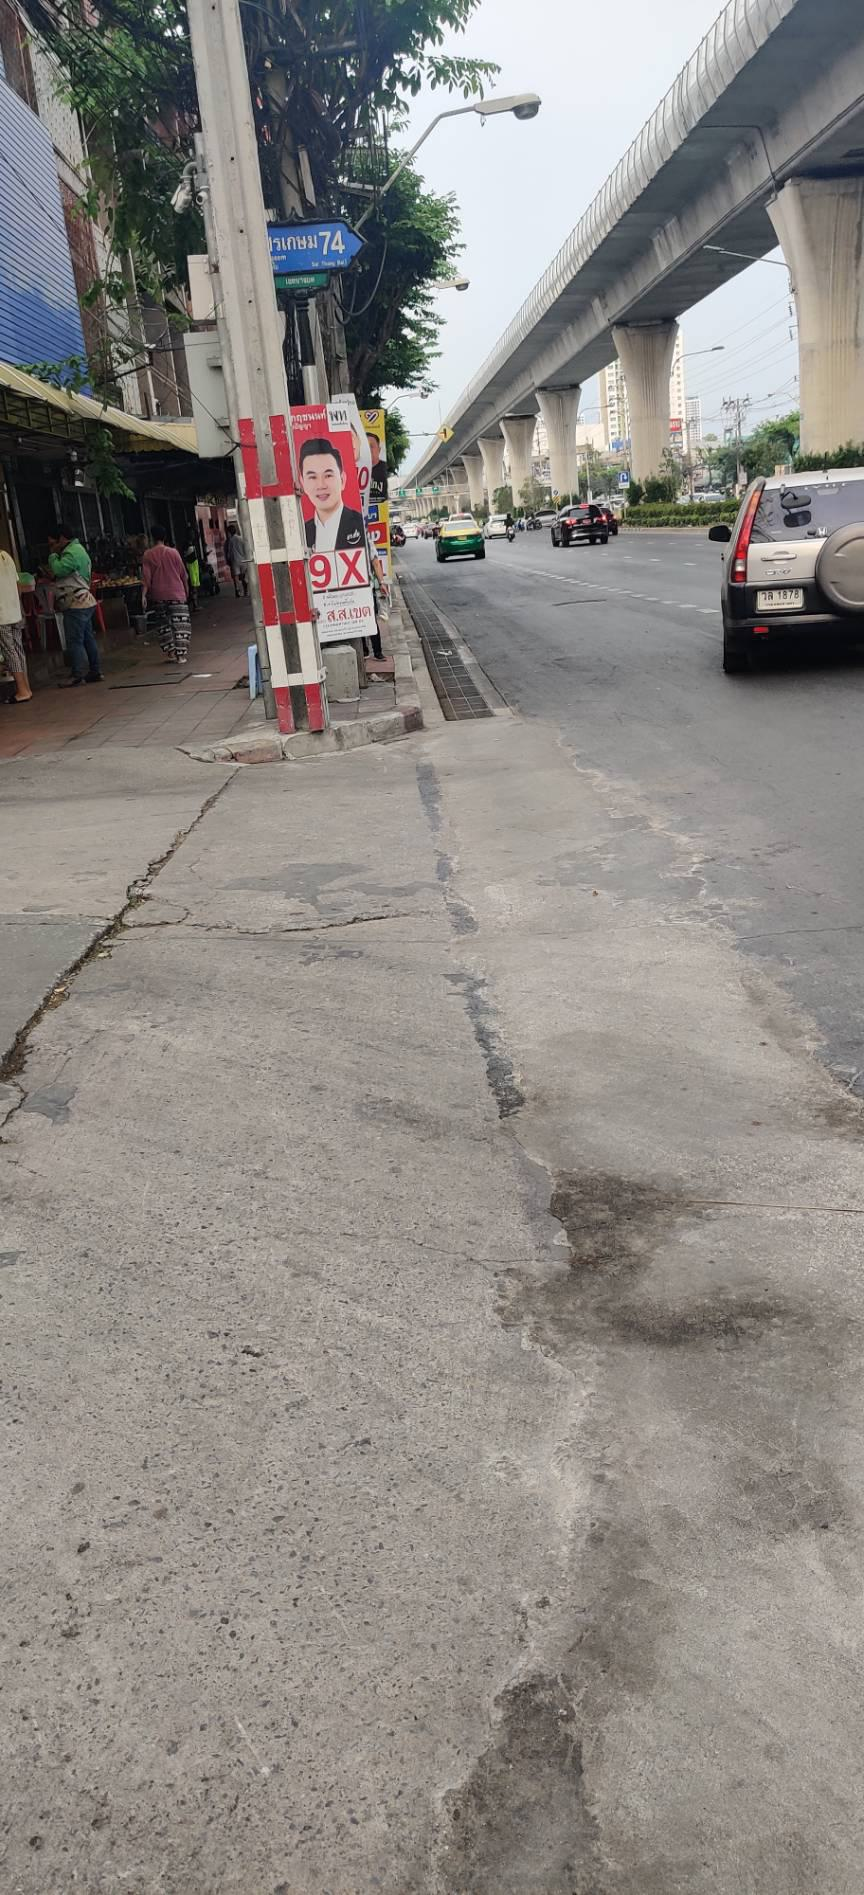Banner: (280, 394, 378, 673)
